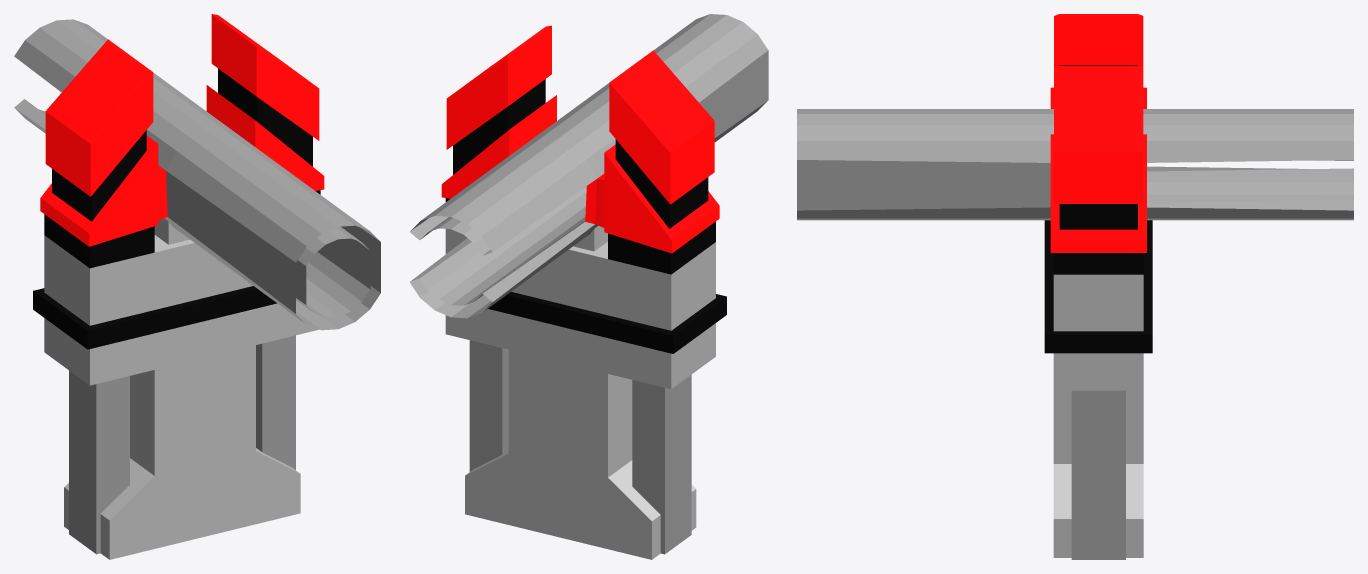
File: treinbuisstation.fbx
3 views of the same model, side by side, from view 1: azimuth 30°, elevation 25°; view 2: azimuth 150°, elevation 25°; view 3: azimuth 270°, elevation 25° (orthographic). The views are drawn at different scales.
Parts seen in each view (by area): view 1: trein buis station; view 2: trein buis station; view 3: trein buis station.
Boxes of the visible parts, box(x1,y1,x2,y2) form: trein buis station: box(14, 14, 380, 559); trein buis station: box(409, 14, 768, 559); trein buis station: box(797, 14, 1353, 559).
Size of the model in its own units: 44.5 by 83.08 by 89.
